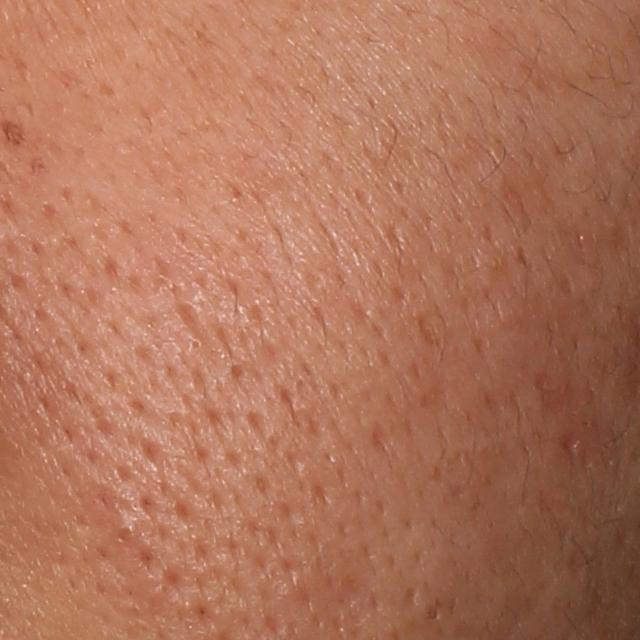atrophic_scar: (126, 254, 179, 300), (554, 429, 591, 466), (369, 417, 391, 466)
comedo: (187, 335, 207, 354)
